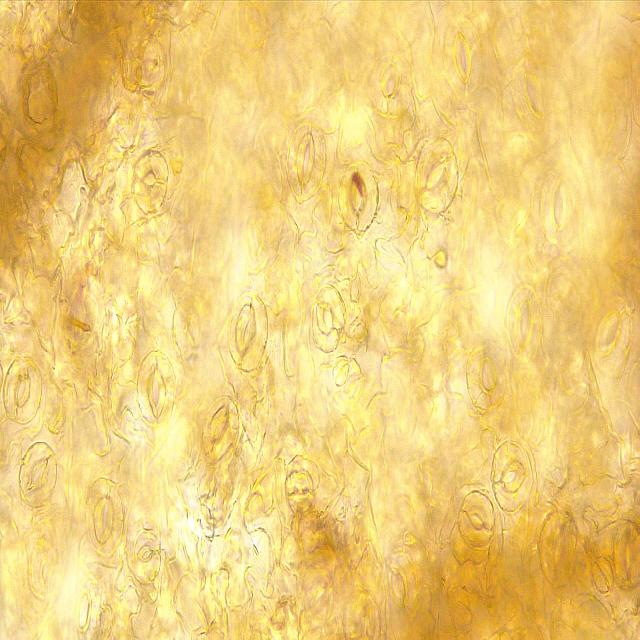Stomata: (414, 136, 460, 213), (512, 56, 555, 137), (285, 122, 327, 204), (227, 292, 269, 372), (84, 476, 125, 557), (591, 299, 633, 376), (538, 510, 578, 590), (136, 349, 176, 428), (337, 160, 379, 235), (541, 165, 579, 247), (444, 15, 482, 95), (489, 439, 530, 512), (1, 354, 43, 424), (466, 342, 508, 412), (506, 285, 542, 363), (18, 439, 58, 509), (201, 395, 240, 464), (370, 52, 410, 118), (132, 147, 170, 214), (311, 284, 347, 353), (458, 491, 495, 550), (68, 576, 99, 640), (29, 538, 59, 600), (612, 521, 640, 587), (132, 528, 162, 586), (282, 466, 314, 518)
